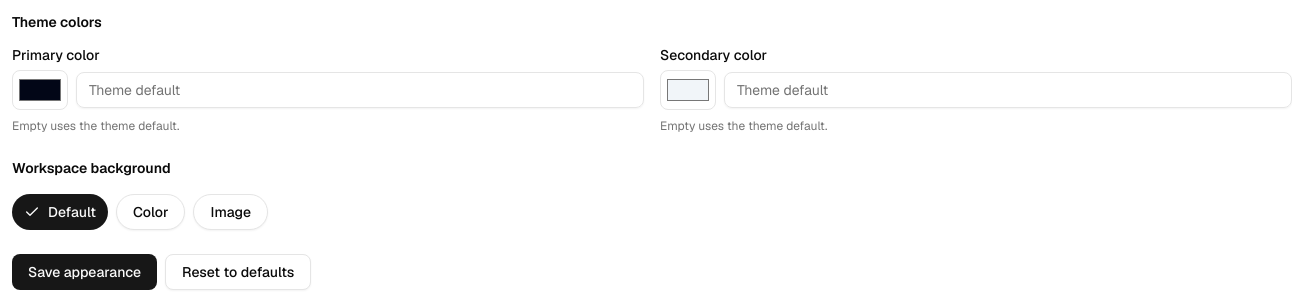
Scenario: AppearanceForm › theme default and feedback › clears the unsaved hint after resetting to defaults
Type "#2563eb" into the field named "Primary color hex" at (360,90), box x1=76 y1=72 x2=644 y2=108
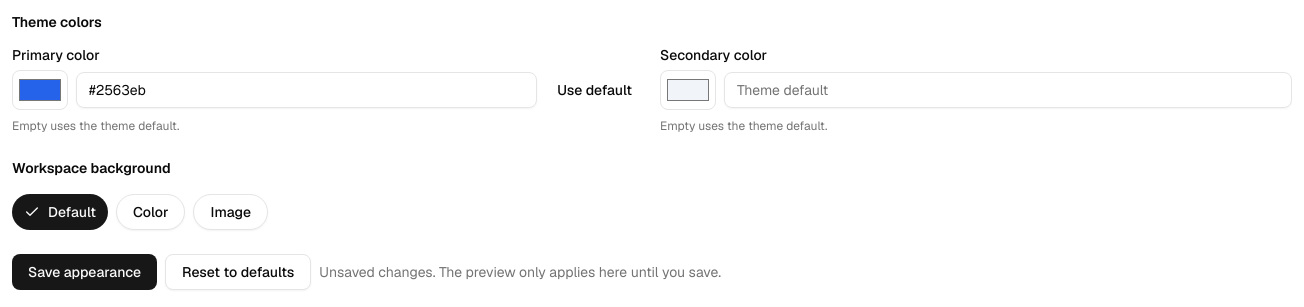
Click the button "Reset to defaults" at (238,272), box x1=165 y1=254 x2=311 y2=290
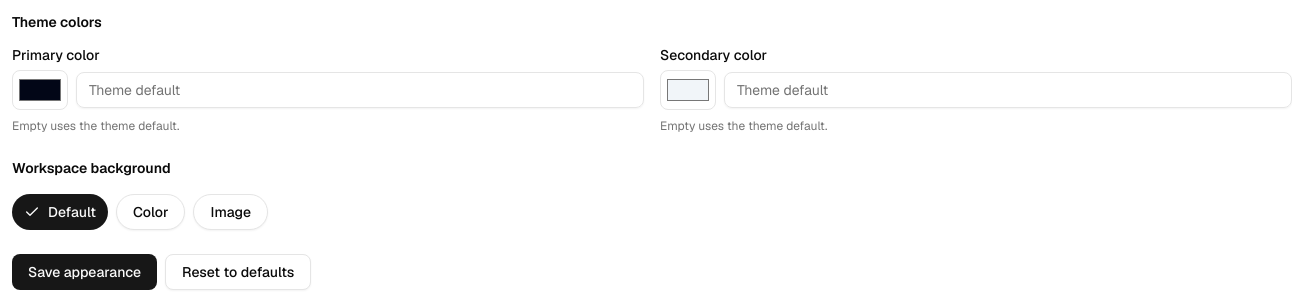
Result: the message "Unsaved changes. The preview only applies here until you save." is gone
